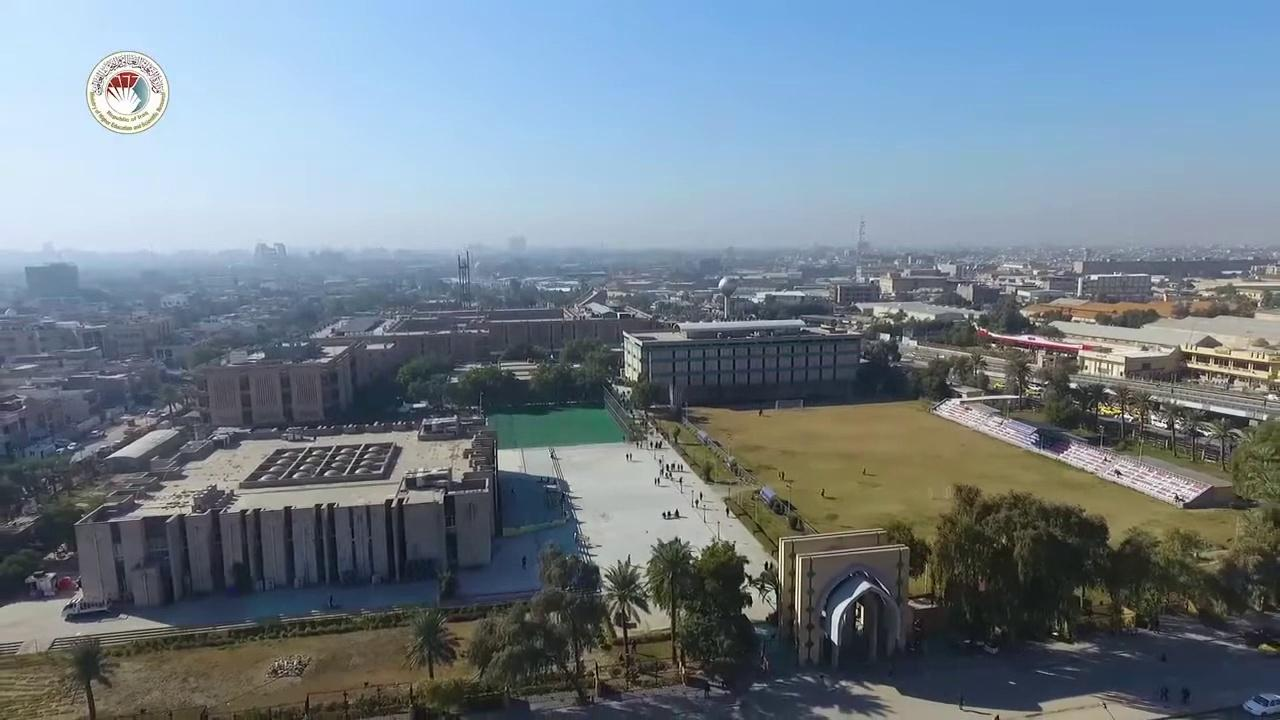car: (60, 592, 112, 619), (1241, 692, 1279, 716)
person: (702, 678, 711, 697), (200, 705, 209, 719), (328, 594, 334, 608), (994, 714, 1000, 719)
tree: (399, 533, 762, 707), (885, 481, 1220, 649), (529, 543, 609, 703), (1105, 524, 1213, 633), (1225, 415, 1279, 611), (679, 538, 752, 676), (466, 600, 560, 701), (644, 535, 696, 669), (1091, 536, 1150, 634), (600, 553, 650, 665), (693, 537, 752, 618), (60, 638, 117, 718), (1228, 416, 1279, 503), (400, 606, 459, 679), (464, 613, 507, 687), (885, 518, 930, 580), (746, 558, 780, 624), (1002, 347, 1033, 408), (1203, 415, 1236, 471), (1130, 387, 1153, 463), (1109, 384, 1134, 444), (1178, 408, 1206, 461), (1159, 396, 1183, 455), (1086, 381, 1105, 431), (433, 566, 453, 607)
